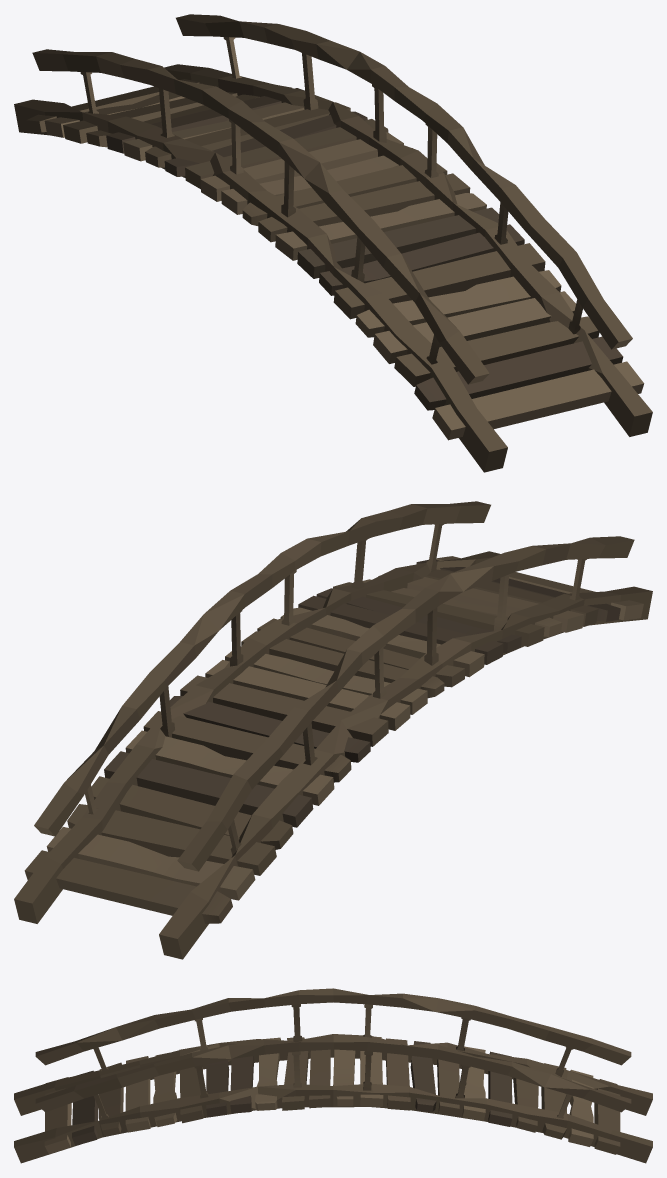
The model's file is synty-prop-bridge-curved-01.gltf.
The picture shows the model from 3 angles, top to bottom: view 1: azimuth 30°, elevation 25°; view 2: azimuth 150°, elevation 25°; view 3: azimuth 270°, elevation 25°; orthographic projection. The views are drawn at different scales.
Visible parts, largest first — view 1: SM_Prop_Bridge_Curved_01; view 2: SM_Prop_Bridge_Curved_01; view 3: SM_Prop_Bridge_Curved_01.
Part boxes in pixels (x1=…): SM_Prop_Bridge_Curved_01: x1=14, y1=14, x2=652, y2=472; SM_Prop_Bridge_Curved_01: x1=14, y1=501, x2=652, y2=959; SM_Prop_Bridge_Curved_01: x1=14, y1=988, x2=652, y2=1163.
Size of the model in its own units: 2.1 by 1.84 by 8.79.
1 material, 1 textured.
